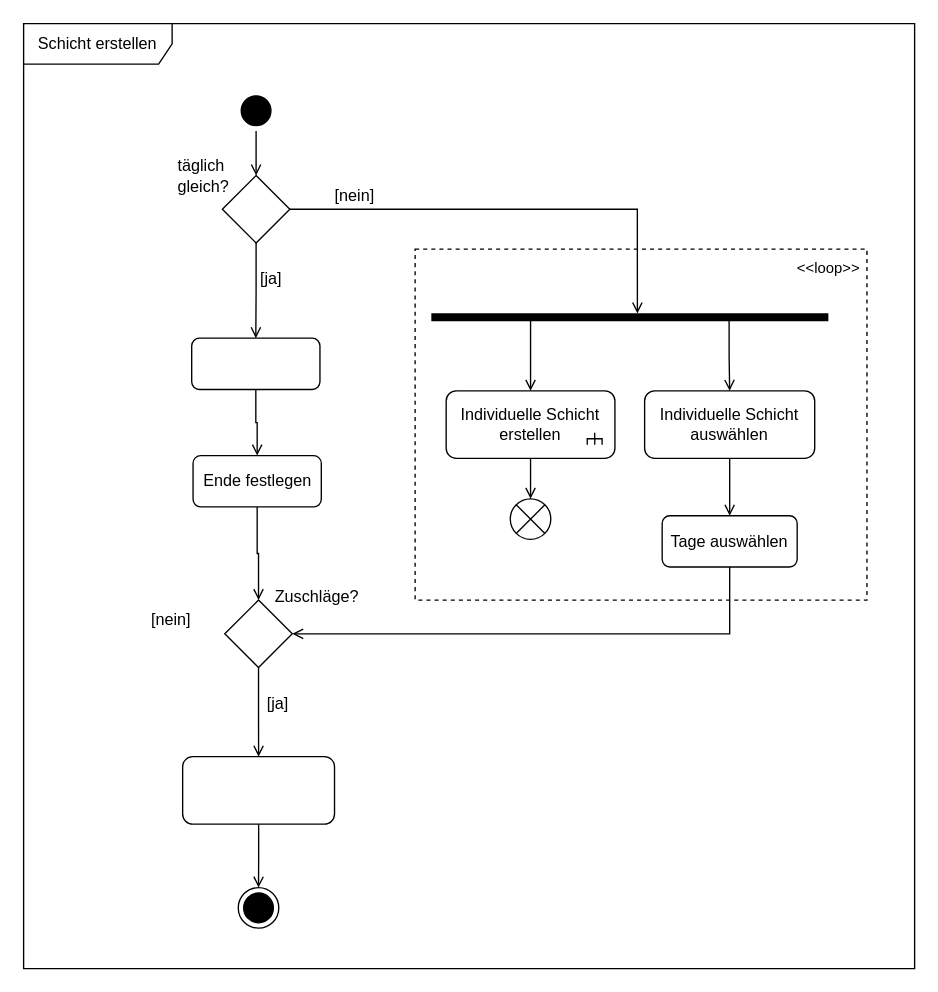
The diagram is 938 pixels wide and 992 high, and some of its shapes have lost their labels. Each missing label, with the box of its shape:
Start festlegen: (190, 337, 320, 389)
Zuschlagsf enster festlegen: (181, 755, 335, 824)
